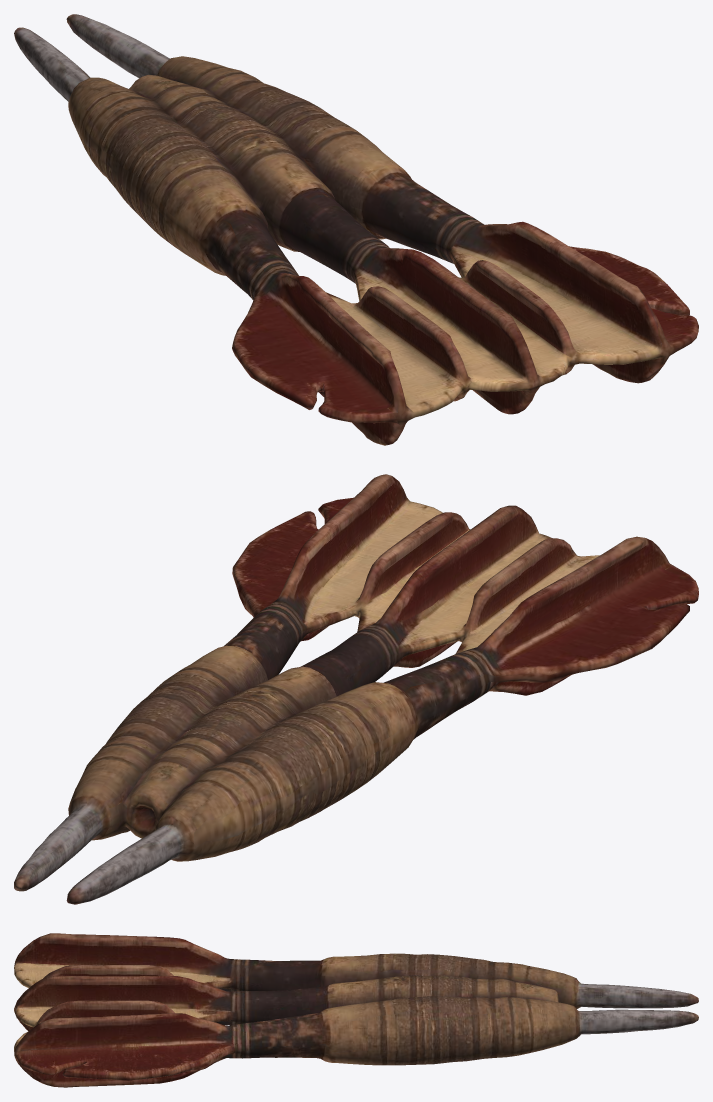
The model's file is bar-darts.glb.
The picture shows the model from 3 angles, top to bottom: view 1: azimuth 30°, elevation 25°; view 2: azimuth 150°, elevation 25°; view 3: azimuth 270°, elevation 25°; orthographic projection. The views are drawn at different scales.
Parts seen in each view (by area): view 1: Mesh_0; view 2: Mesh_0; view 3: Mesh_0.
Boxes of the visible parts, box(x1,y1,x2,y2) form: Mesh_0: box(14, 14, 698, 445); Mesh_0: box(14, 474, 698, 904); Mesh_0: box(14, 933, 698, 1087).
Size of the model in its own units: 0.0713 by 0.0166 by 0.15.
Materials: 1 (1 with a texture image).
